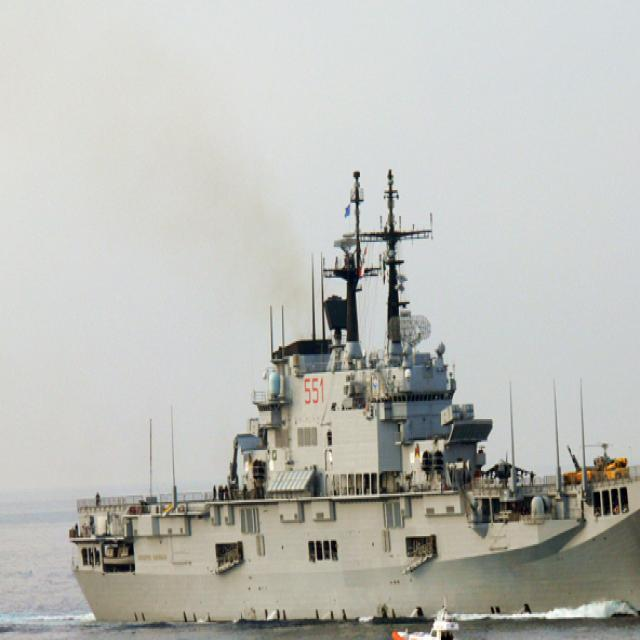Portanaves: (62, 157, 640, 629)
